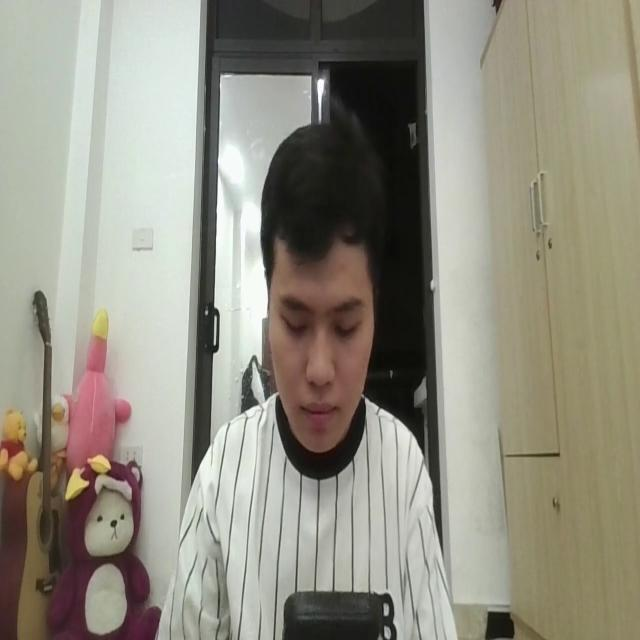phone: (279, 584, 383, 640)
student: (162, 121, 454, 640)
